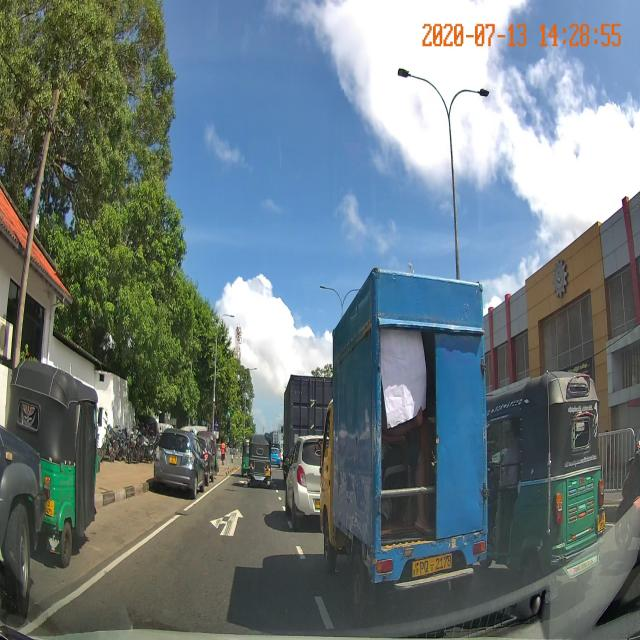forward_lft: (143, 494, 306, 559)
